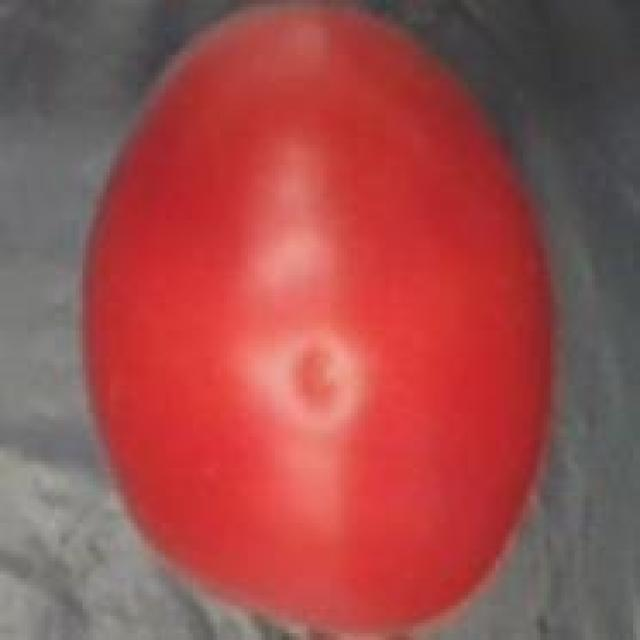ripe tomato: (69, 0, 571, 640)
